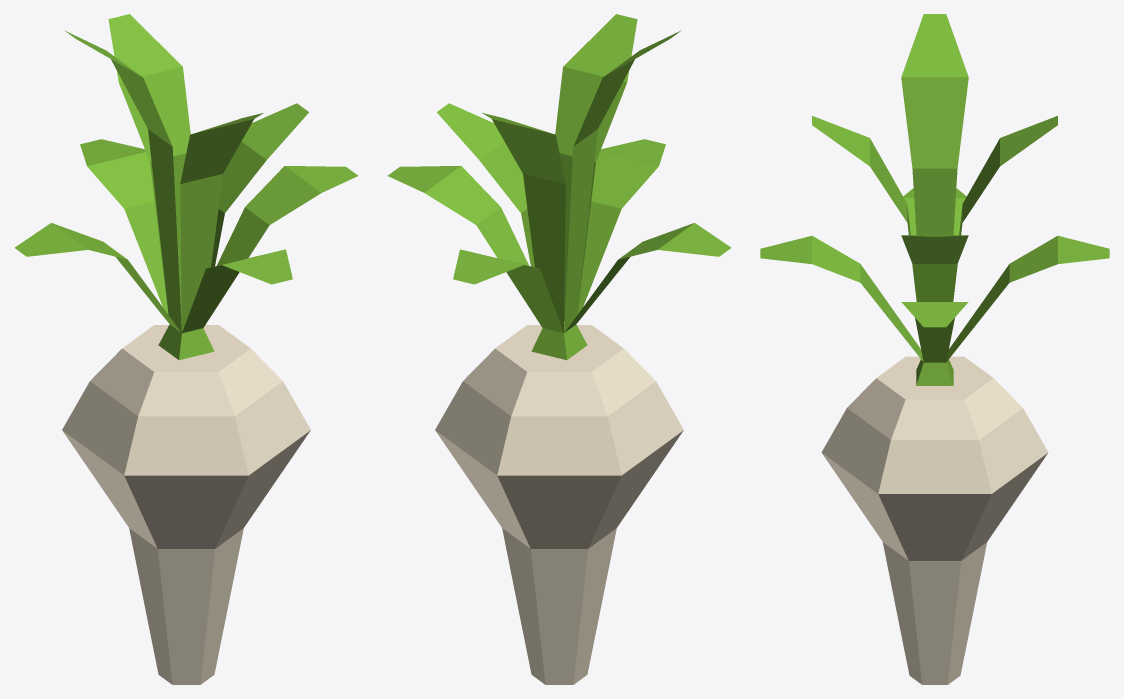
File: turnip.glb
The picture shows the model from 3 angles, left to right: view 1: azimuth 30°, elevation 25°; view 2: azimuth 150°, elevation 25°; view 3: azimuth 270°, elevation 25°; orthographic projection. The views are drawn at different scales.
Visible parts, largest first — view 1: crop_turnip; view 2: crop_turnip; view 3: crop_turnip.
Boxes of the visible parts, x1,y1,x2,y2 form: crop_turnip: (14, 14, 358, 684); crop_turnip: (387, 14, 731, 684); crop_turnip: (760, 14, 1109, 684).
Bounding box in the file's own units: 0.3775 × 0.7267 × 0.3775.
